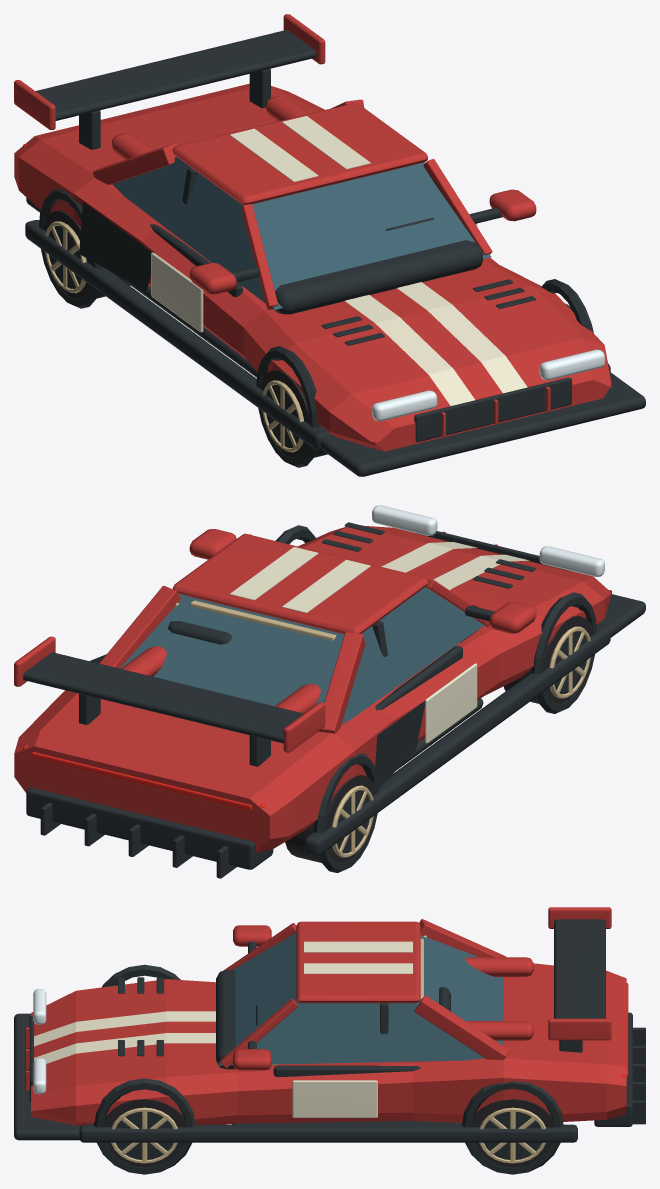
Rendered from VEH_V6_Apex_GT.glb.
3 views of the same model, one above another, from view 1: azimuth 30°, elevation 25°; view 2: azimuth 150°, elevation 25°; view 3: azimuth 270°, elevation 25° (orthographic). The views are drawn at different scales.
Parts seen in each view (by area): view 1: GT_sculpted_body, Glasshouse, Roof, Rear_wing, Side_skirt, Front_splitter, Dashboard, Front_intake, Side_air_scoop, Door_number_panel, Wheelarch, Roof_stripe (+26 smaller); view 2: GT_sculpted_body, Glasshouse, Roof, Rear_wing, Side_skirt, Rear_diffuser, Door_number_panel, Side_air_scoop, C_pillar, C_pillar.001, Wheelarch, Wheelarch.001 (+27 smaller); view 3: GT_sculpted_body, Glasshouse, Side_skirt.001, Roof, Rear_wing, Door_number_panel.001, Front_splitter, Wheelarch.002, Wheelarch.003, C_pillar.001, Dashboard, Wing_endplate.001 (+27 smaller).
Boxes of the visible parts, x1,y1,x2,y2 form: GT_sculpted_body: (14, 83, 611, 451); Glasshouse: (112, 157, 491, 309); Roof: (172, 103, 427, 204); Rear_wing: (35, 30, 316, 120); Side_skirt: (25, 220, 331, 450); Front_splitter: (320, 372, 645, 476); Dashboard: (274, 240, 482, 314); Front_intake: (414, 377, 571, 442); Side_air_scoop: (79, 202, 151, 290); Door_number_panel: (151, 252, 203, 332); Wheelarch: (256, 346, 321, 467); Roof_stripe: (230, 128, 318, 181); GT_sculpted_body: (14, 525, 611, 852); Glasshouse: (120, 587, 484, 723); Roof: (172, 534, 428, 634); Rear_wing: (23, 652, 303, 743); Side_skirt: (304, 625, 610, 855); Rear_diffuser: (26, 787, 273, 869); Door_number_panel: (425, 663, 477, 743); Side_air_scoop: (373, 701, 424, 793); C_pillar: (318, 632, 365, 733); C_pillar.001: (99, 585, 180, 668); Wheelarch: (531, 592, 596, 713); Wheelarch.001: (313, 753, 379, 872); GT_sculpted_body: (31, 963, 626, 1125); Glasshouse: (218, 932, 503, 1065); Side_skirt.001: (79, 1124, 577, 1142); Roof: (296, 921, 420, 1003); Rear_wing: (554, 919, 605, 1018); Door_number_panel.001: (292, 1080, 377, 1117); Front_splitter: (14, 1013, 80, 1140); Wheelarch.002: (93, 1078, 195, 1174); Wheelarch.003: (462, 1081, 563, 1174); C_pillar.001: (414, 995, 509, 1059); Dashboard: (216, 970, 235, 1069); Wing_endplate.001: (548, 1018, 611, 1040).
Size of the model in its own units: 2.33 by 1.28 by 4.57.
